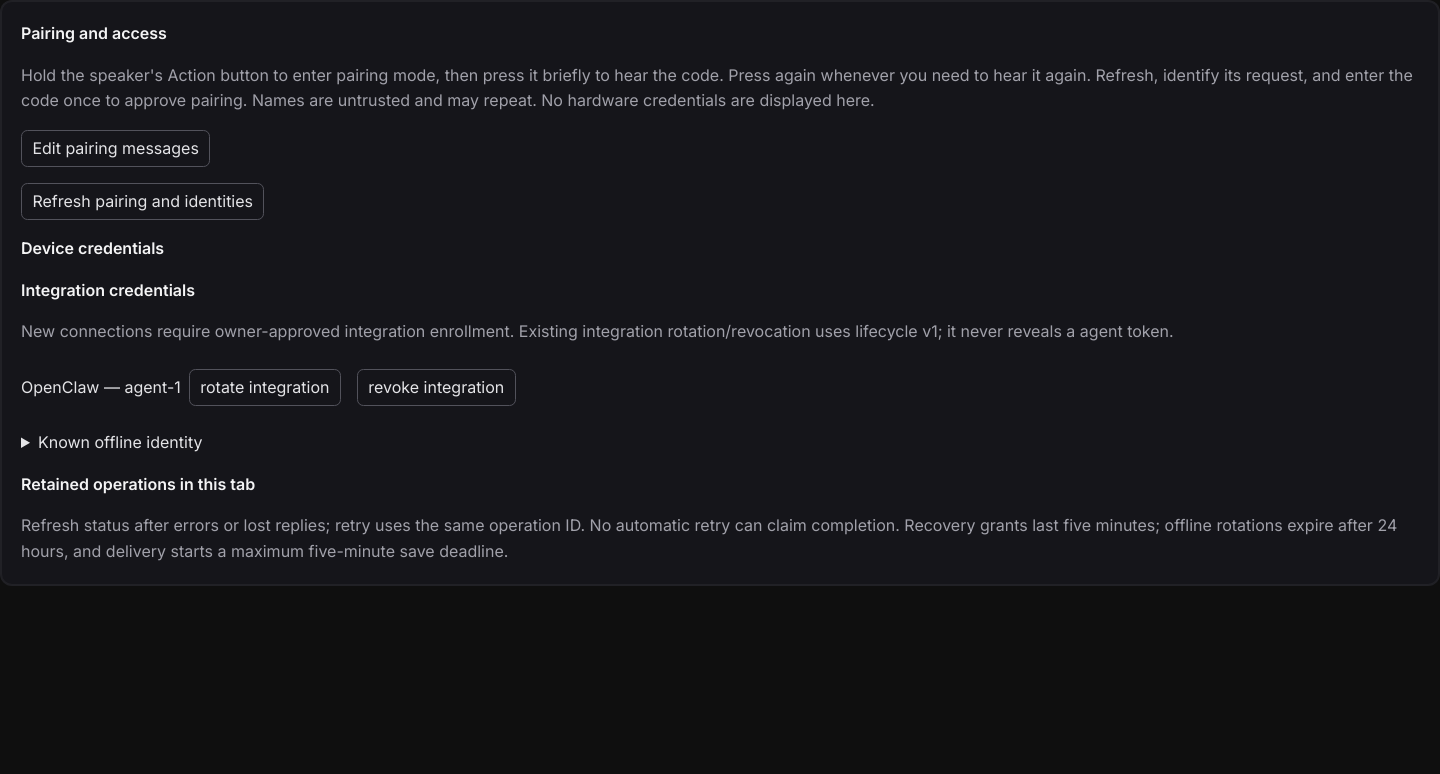
loads and saves configurable pairing messages
Click the button "Edit pairing messages".
click(116, 148)  # box [21, 130, 210, 167]
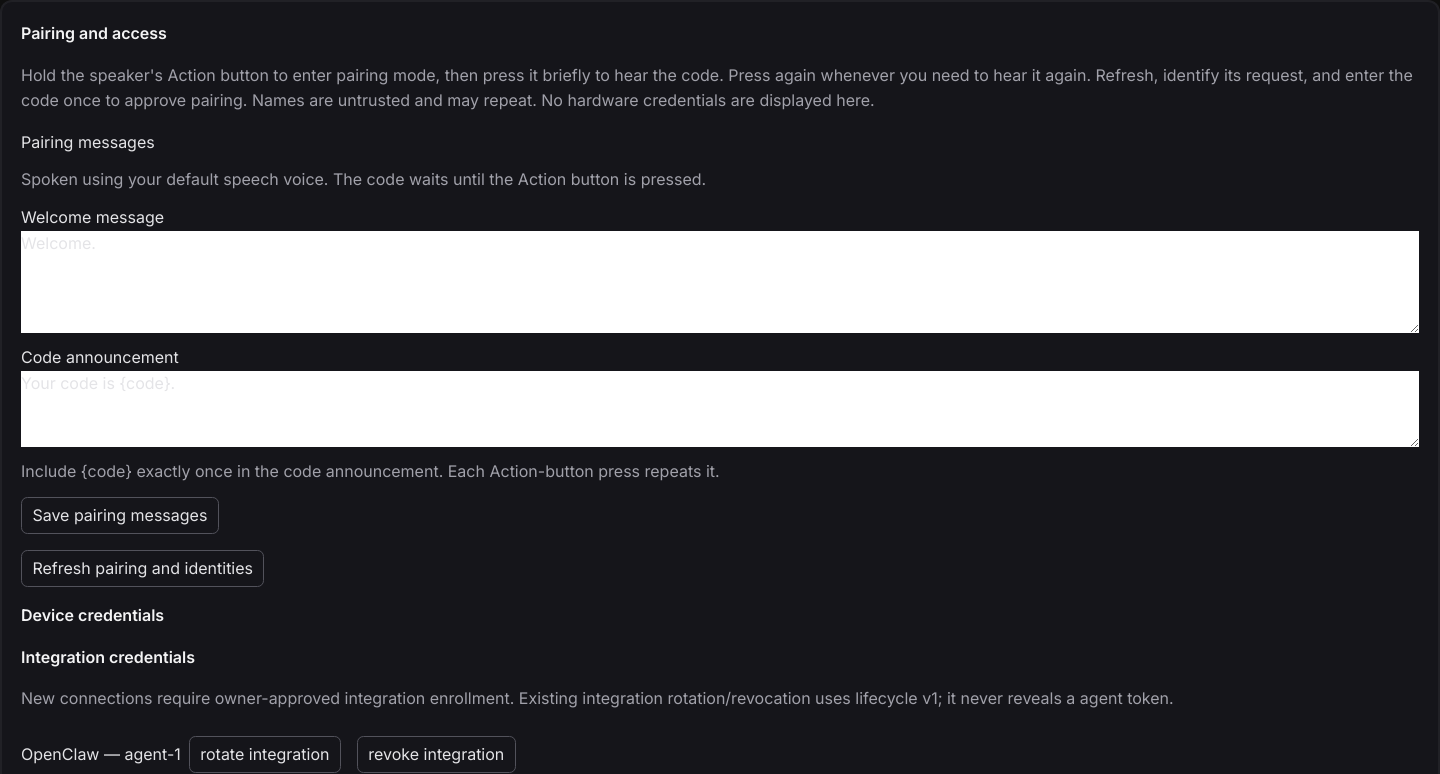
Replace the text in the text box labelled "Welcome message" with "Welcome to Vauxr! Press Action when ready." at {"x": 720, "y": 282}, box [21, 231, 1419, 333]
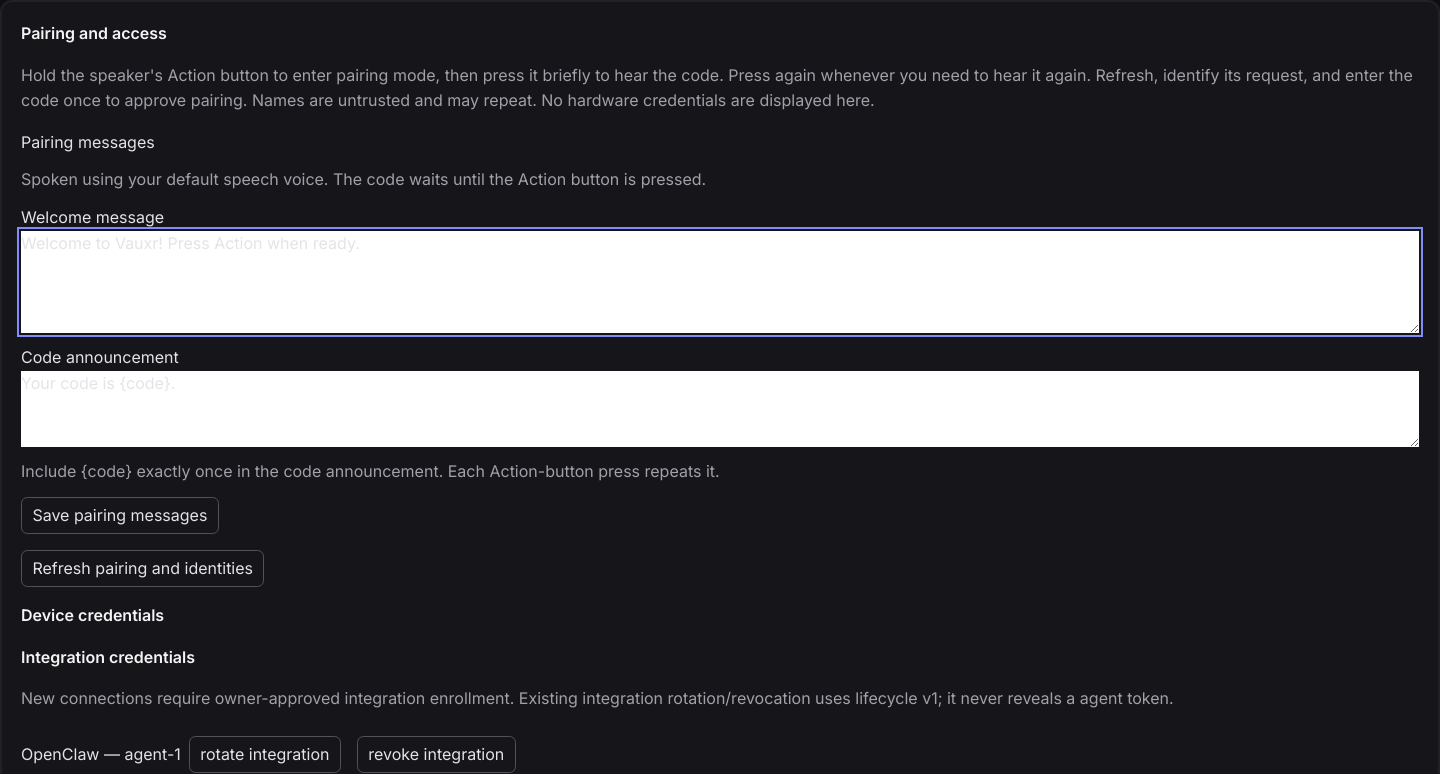
Click the button "Save pairing messages".
click(120, 516)  # box [21, 497, 219, 534]
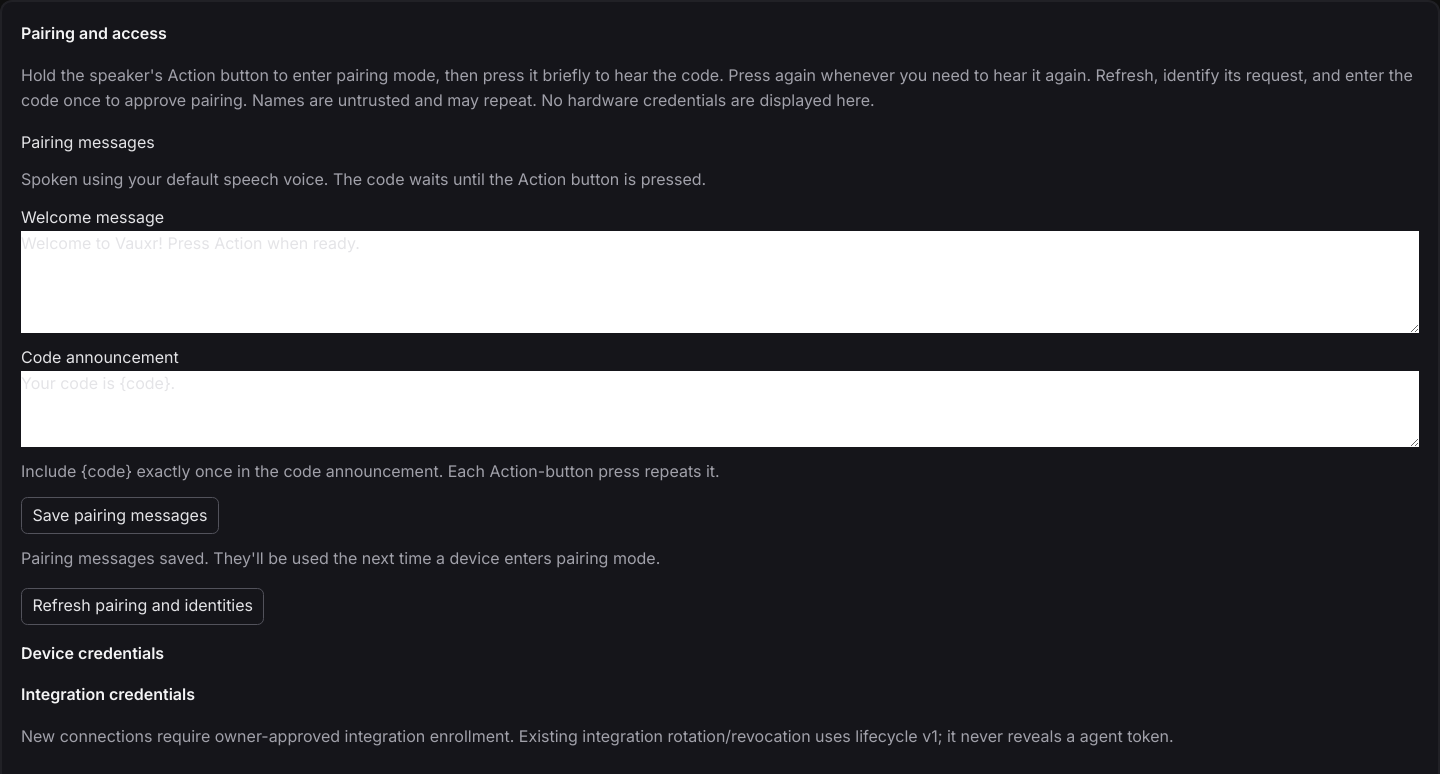
Expected: the message is shown, [21, 548, 660, 568]
